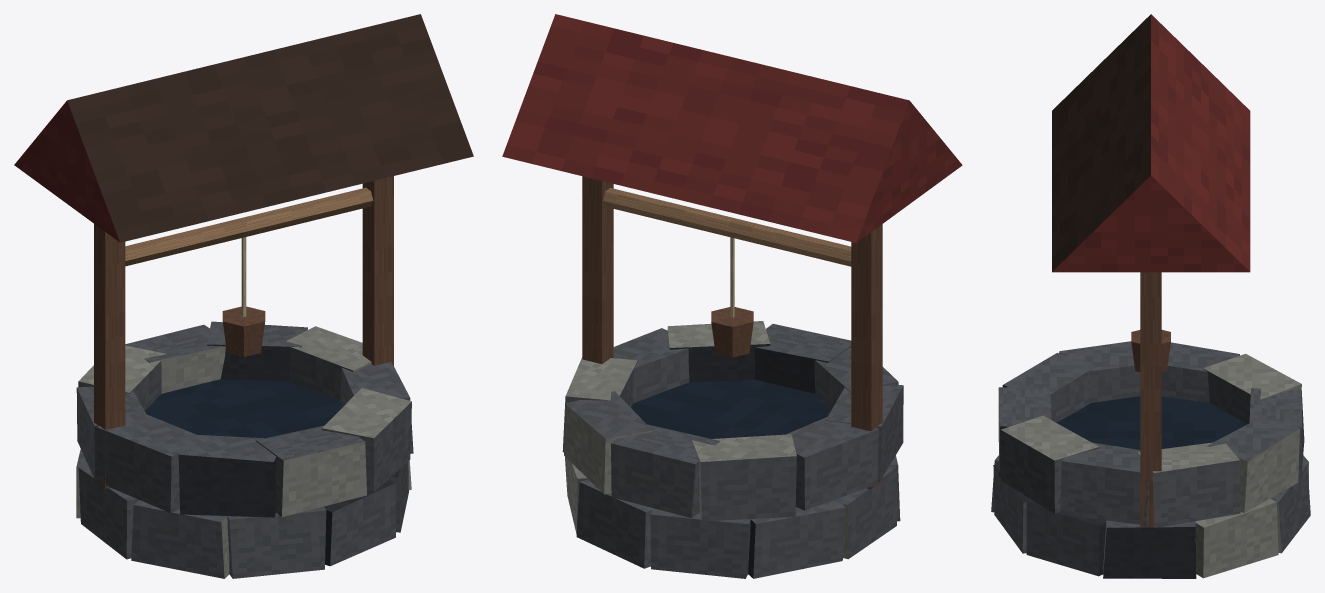
Rendered from well.glb.
3 renders of one model, left to right at view 1: azimuth 30°, elevation 25°; view 2: azimuth 150°, elevation 25°; view 3: azimuth 270°, elevation 25°, orthographic. The views are drawn at different scales.
Visible parts, largest first — view 1: well; view 2: well; view 3: well.
Boxes of the visible parts, bbox=[...] form: well: bbox=[14, 14, 473, 578]; well: bbox=[502, 14, 962, 578]; well: bbox=[991, 14, 1310, 578].
Size of the model in its own units: 2.5 by 3.05 by 2.09.
1 material, 1 textured.
